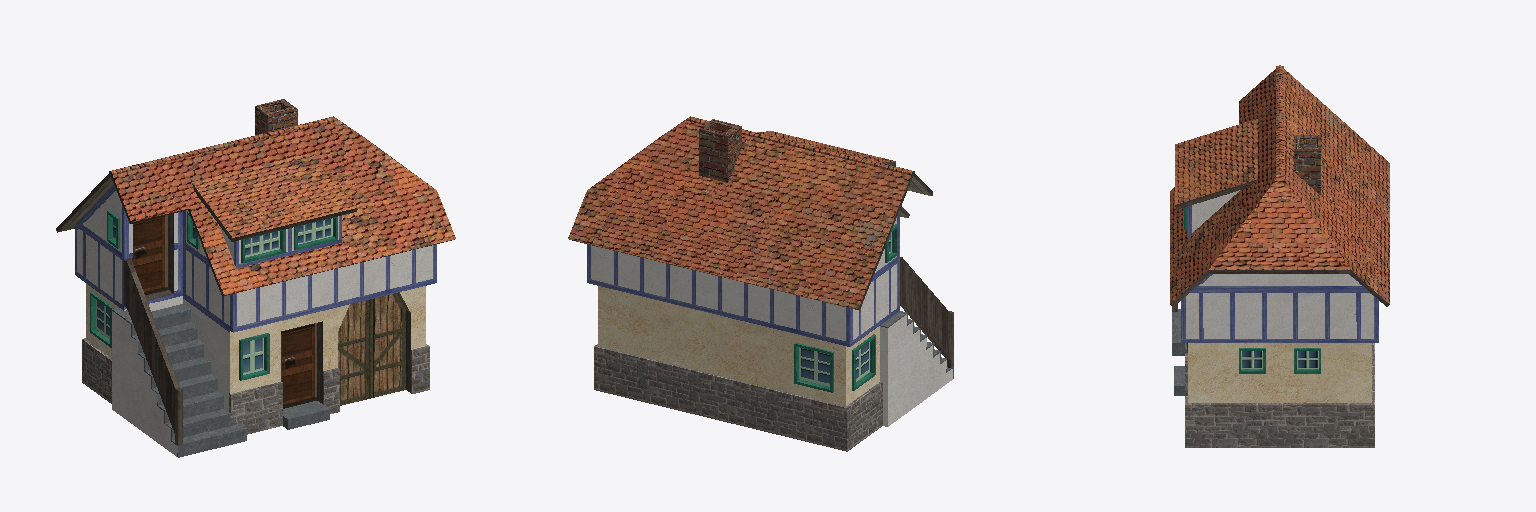
The picture shows the model from 3 angles: view 1: azimuth 30°, elevation 25°; view 2: azimuth 150°, elevation 25°; view 3: azimuth 270°, elevation 25°; orthographic projection.
Visible parts, largest first — view 1: NoName,1; view 2: NoName,1; view 3: NoName,1.
Boxes of the visible parts, box(x1,y1,x2,y2) form: NoName,1: box(56, 99, 455, 457); NoName,1: box(568, 116, 953, 451); NoName,1: box(1170, 65, 1389, 447).
Size of the model in its own units: 7 by 6 by 4.6.
Materials: 1 (1 with a texture image).